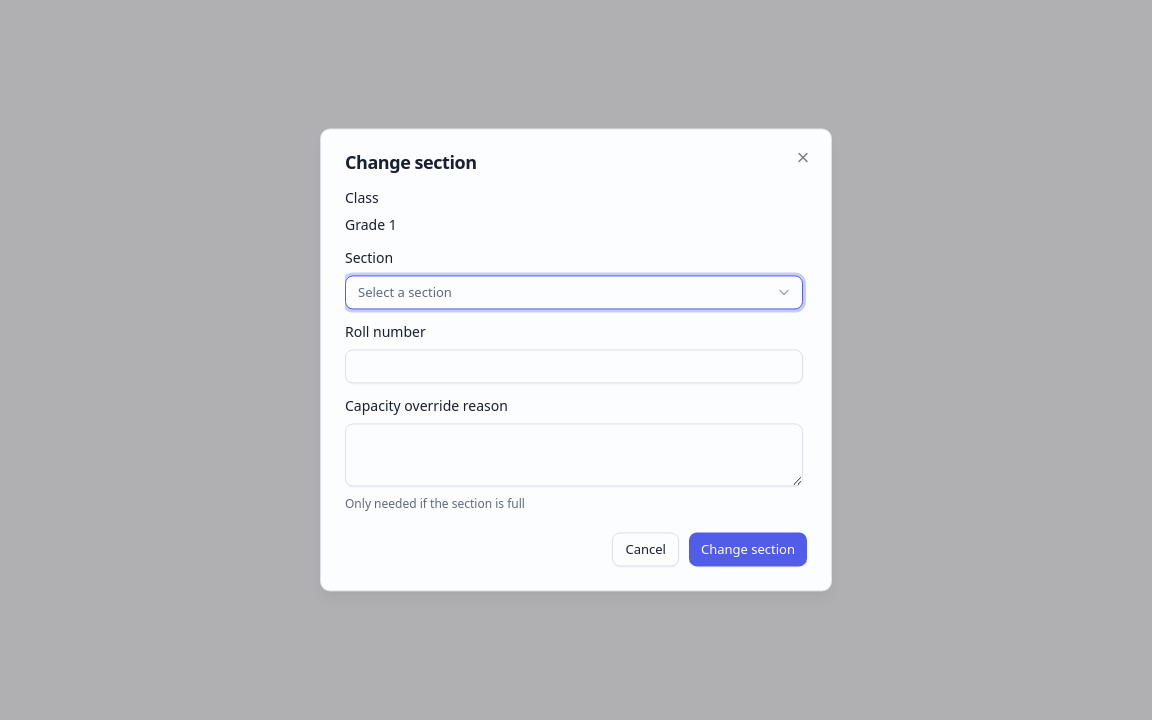
Test: ChangeSectionDialog › maps a 422 capacity error onto the non_field form message
What coordinates should you click on to do the following:
click the dropdown labelled "Select a section"
I would click on:
 (405, 292)
Its box is left=345, top=275, right=803, bottom=309.
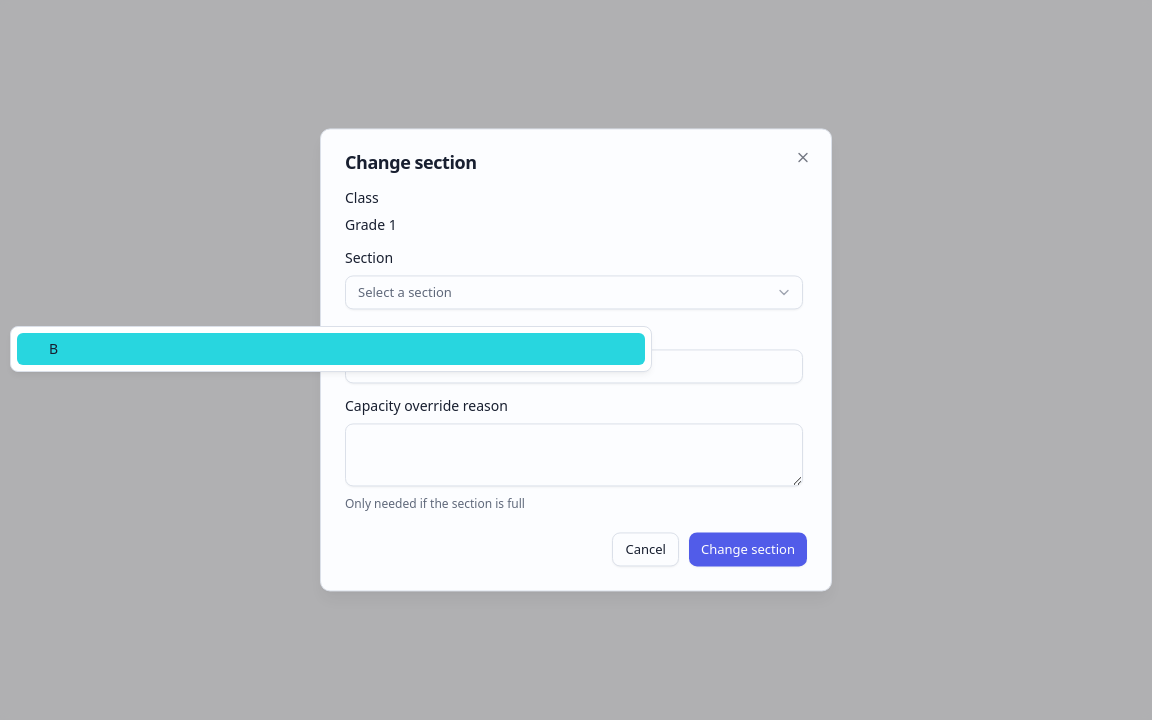
What coordinates should you click on to do the following:
click the option "B"
I would click on:
 (54, 348)
Its box is left=17, top=333, right=645, bottom=365.
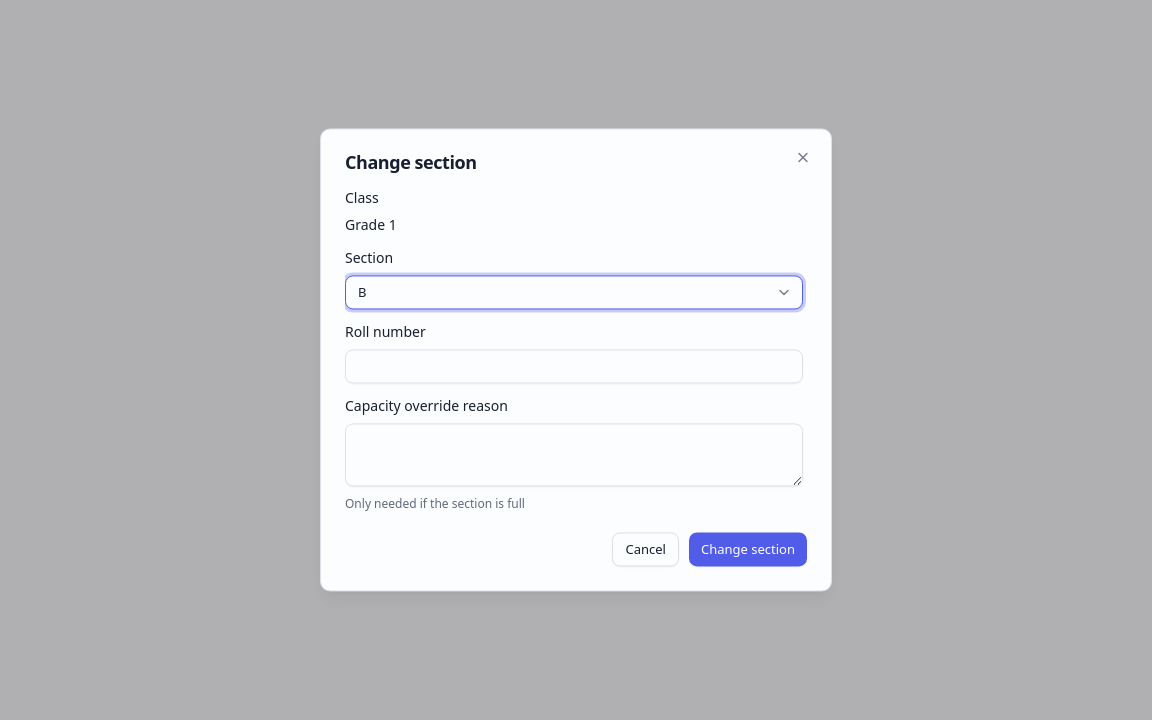
What coordinates should you click on to do the following:
click the button "Change section"
I would click on:
 (748, 550)
Its box is left=689, top=533, right=807, bottom=567.
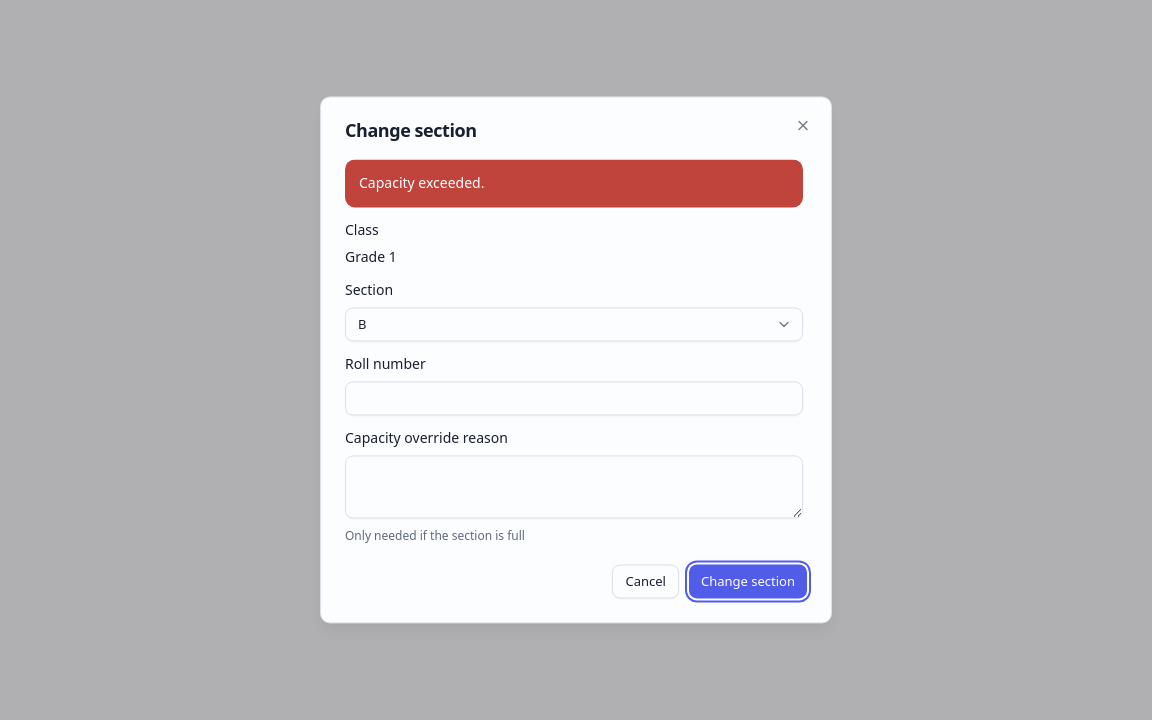
expect the text "Capacity exceeded." is shown: met, box left=345, top=159, right=803, bottom=207
